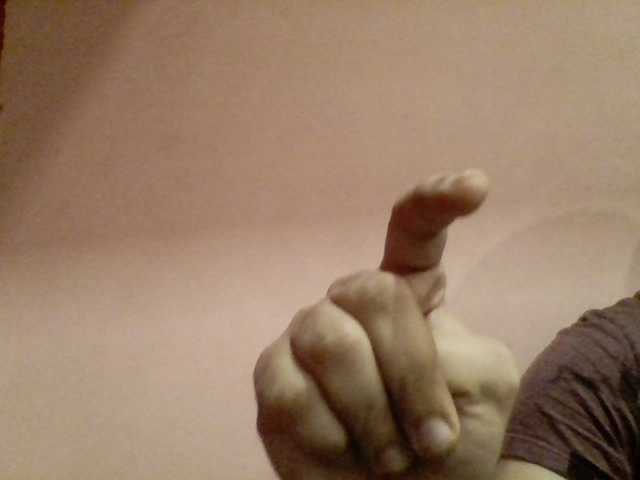x: (234, 164, 533, 476)
